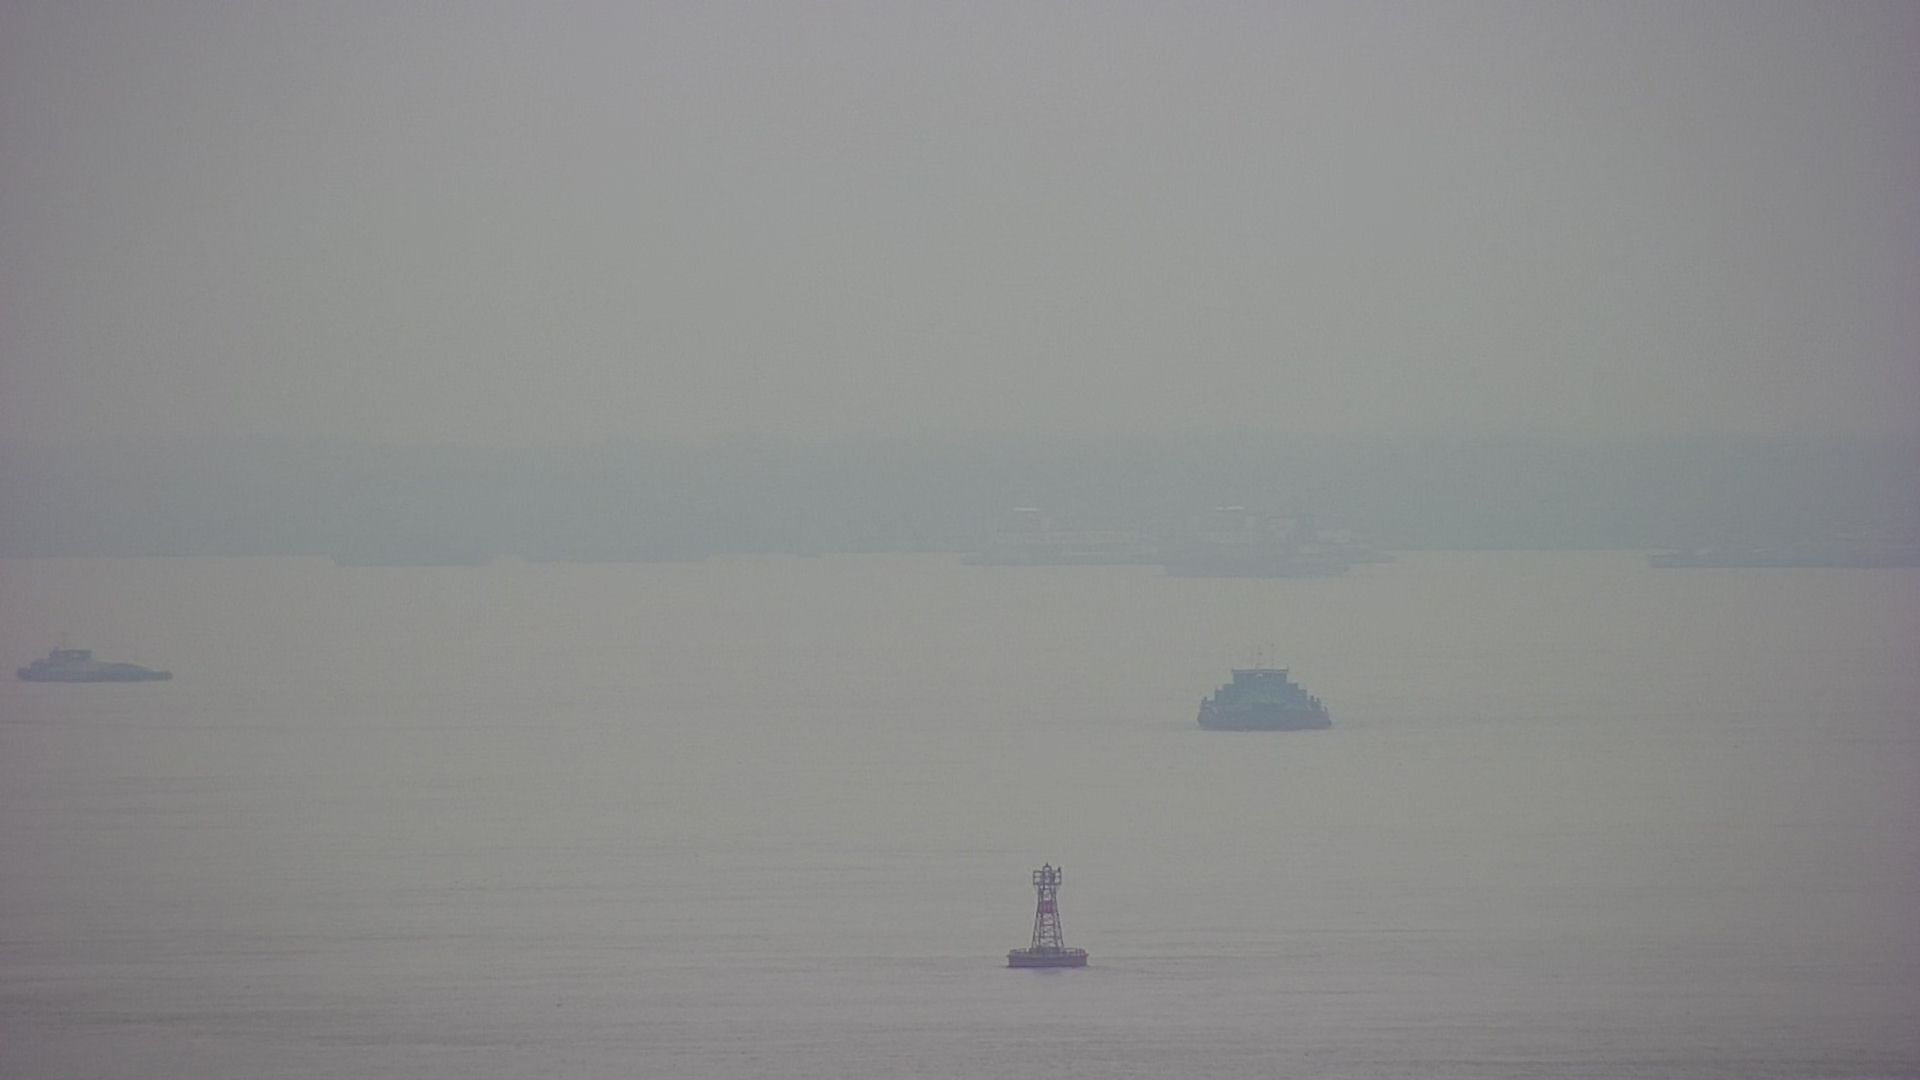buoy: (1009, 860, 1087, 973)
ship: (1200, 659, 1332, 735), (17, 636, 175, 687)
